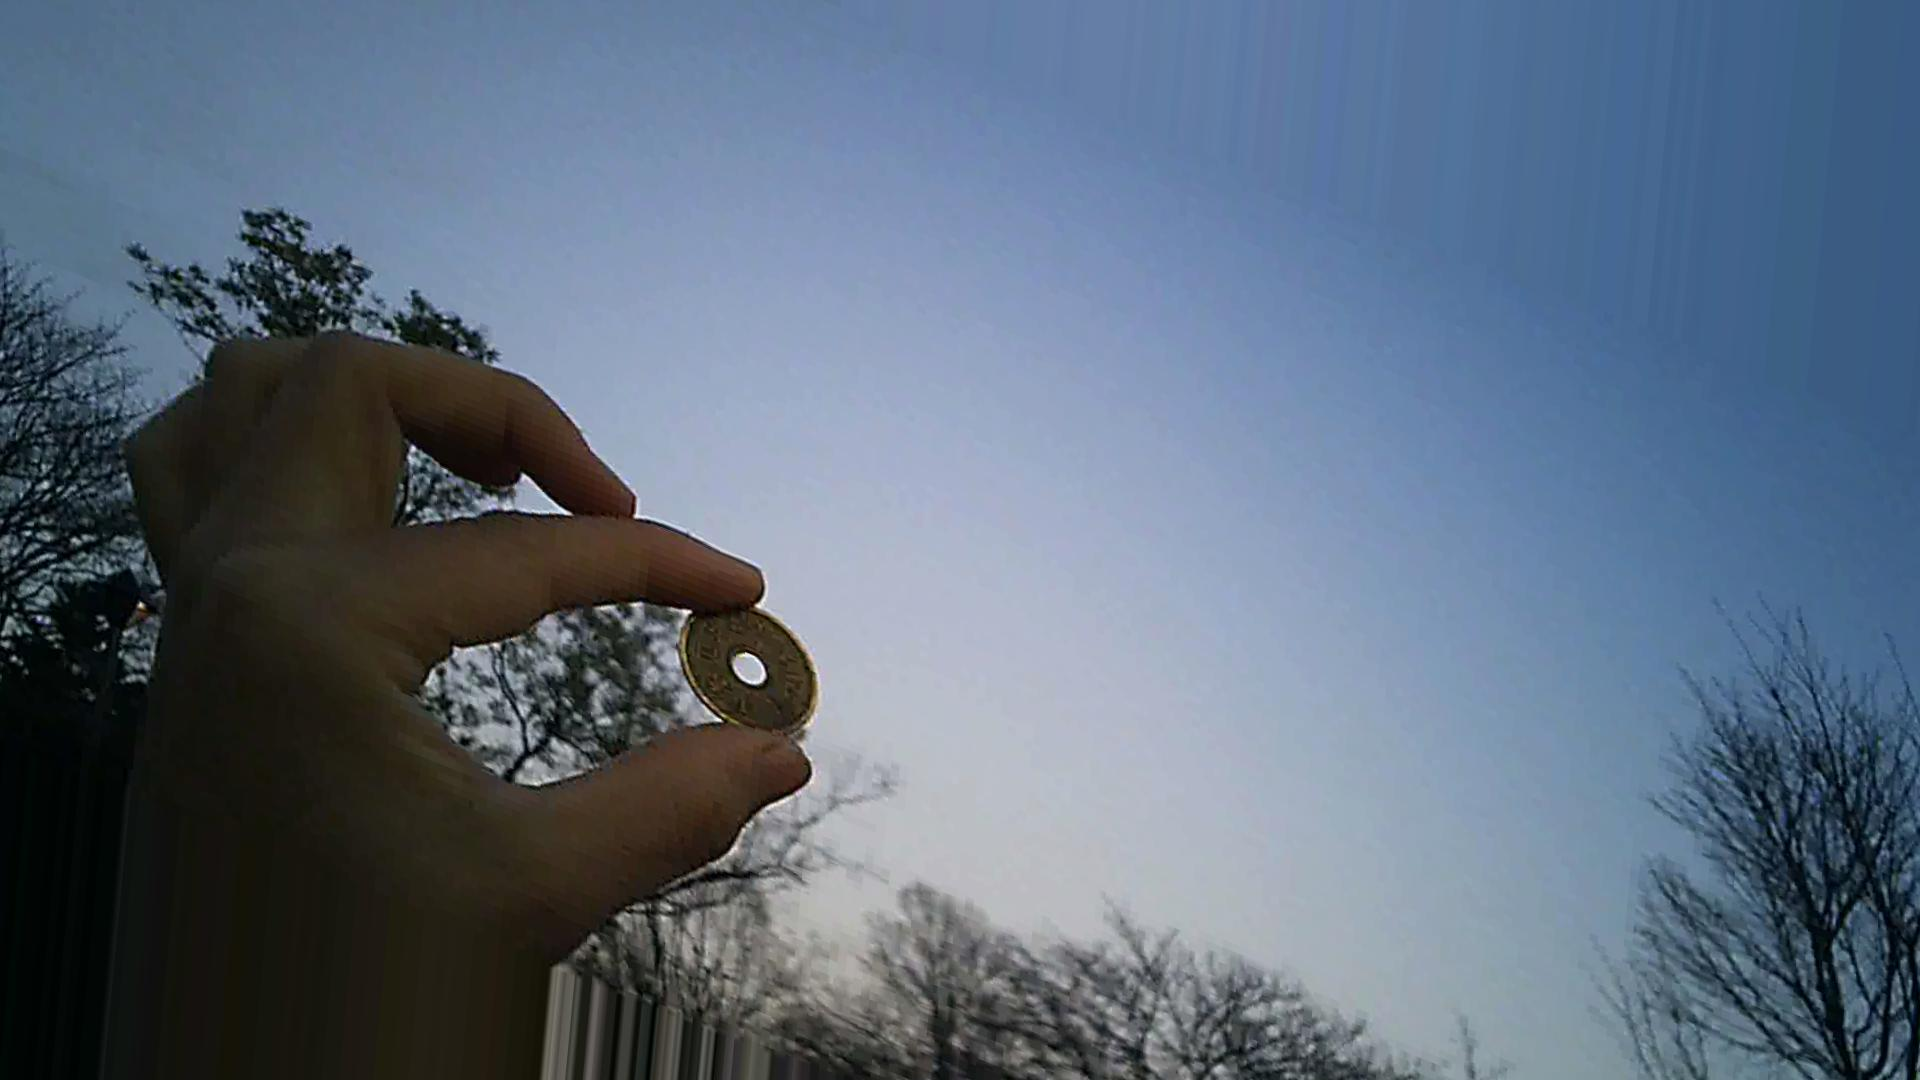5 Yen: (654, 588, 840, 748)
